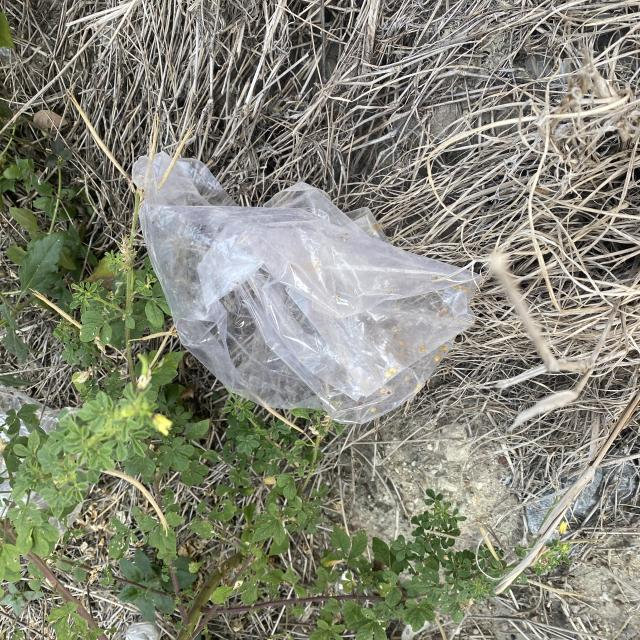Single-layer Plastic: (132, 152, 479, 422)
